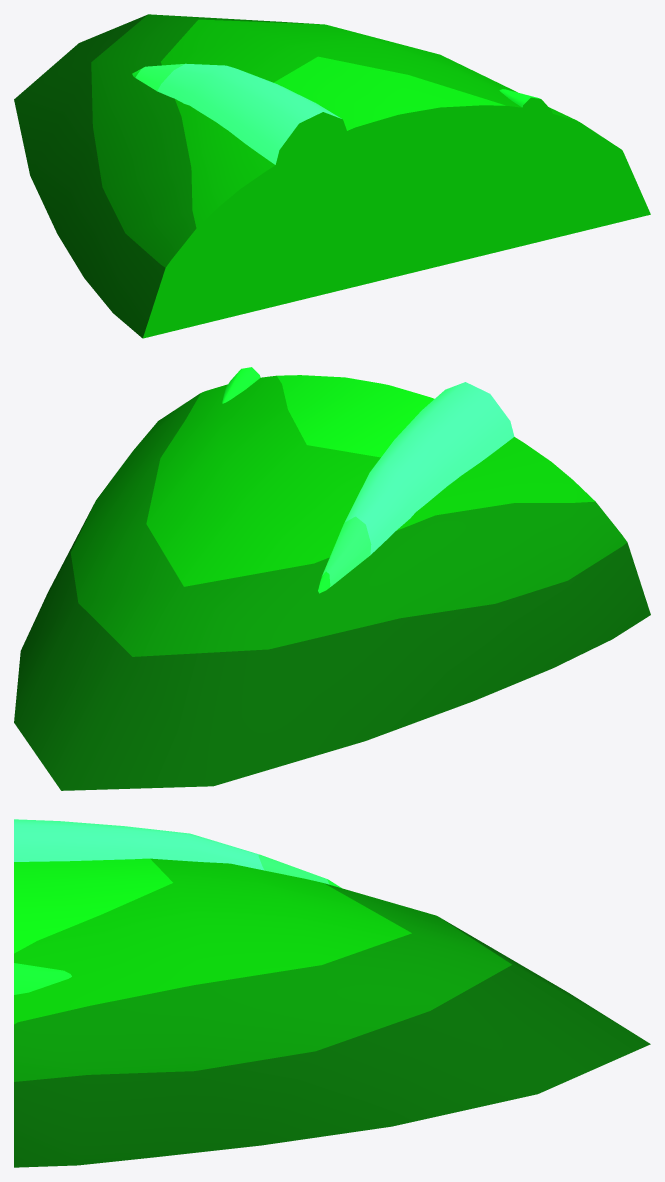
The model's file is shot_espike_118.glb.
The picture shows the model from 3 angles, top to bottom: view 1: azimuth 30°, elevation 25°; view 2: azimuth 150°, elevation 25°; view 3: azimuth 270°, elevation 25°; orthographic projection. The views are drawn at different scales.
Parts seen in each view (by area): view 1: shot_espike_118_body, shot_espike_118_light; view 2: shot_espike_118_body, shot_espike_118_light; view 3: shot_espike_118_body, shot_espike_118_light.
Boxes of the visible parts, x1,y1,x2,y2 form: shot_espike_118_body: (14, 14, 650, 338); shot_espike_118_light: (132, 63, 552, 179); shot_espike_118_body: (14, 375, 650, 790); shot_espike_118_light: (222, 367, 514, 593); shot_espike_118_body: (14, 858, 650, 1167); shot_espike_118_light: (14, 819, 341, 994).
Size of the model in its own units: 11.86 by 4.07 by 12.88.
